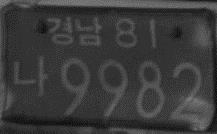1: (146, 16, 160, 51)
2: (169, 61, 204, 123)
8: (135, 59, 165, 120), (114, 16, 139, 49)
9: (57, 57, 92, 118), (97, 57, 130, 119)
경남_O: (44, 16, 103, 49)
나: (10, 52, 51, 98)
